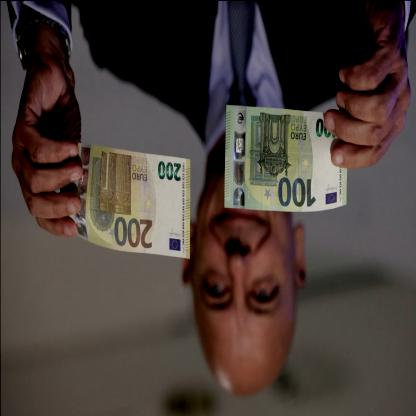euro_banknote: (60, 150, 198, 252), (227, 107, 349, 213)
